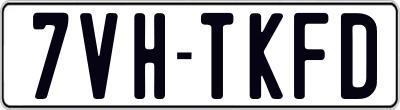7: (32, 11, 69, 101)
D: (341, 12, 381, 104)
F: (294, 10, 332, 96)
H: (131, 10, 168, 102)
K: (250, 13, 287, 99)
T: (201, 11, 235, 101)
V: (79, 11, 122, 101)
